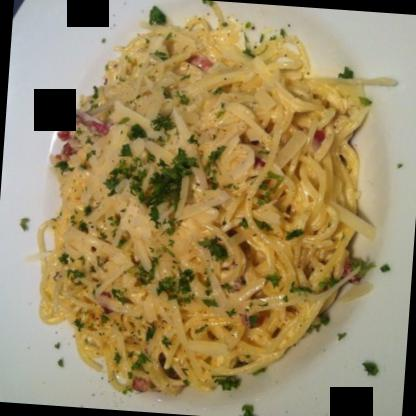pasta: (30, 14, 384, 396)
